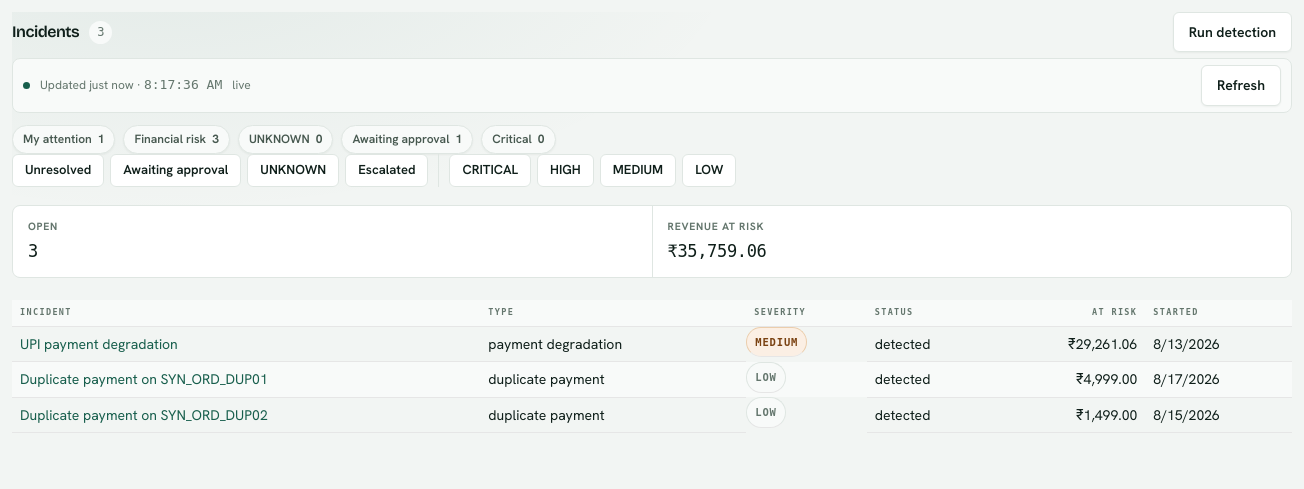
Test: filtering and saved views › puts the filter in the URL so a filtered console is a link
Expected: the table named "Open incidents" is shown, top-left (12, 300), bottom-right (1292, 433)
Step 1. Click the button "UNKNOWN" → [293, 170], box top-left (247, 154), bottom-right (339, 187)
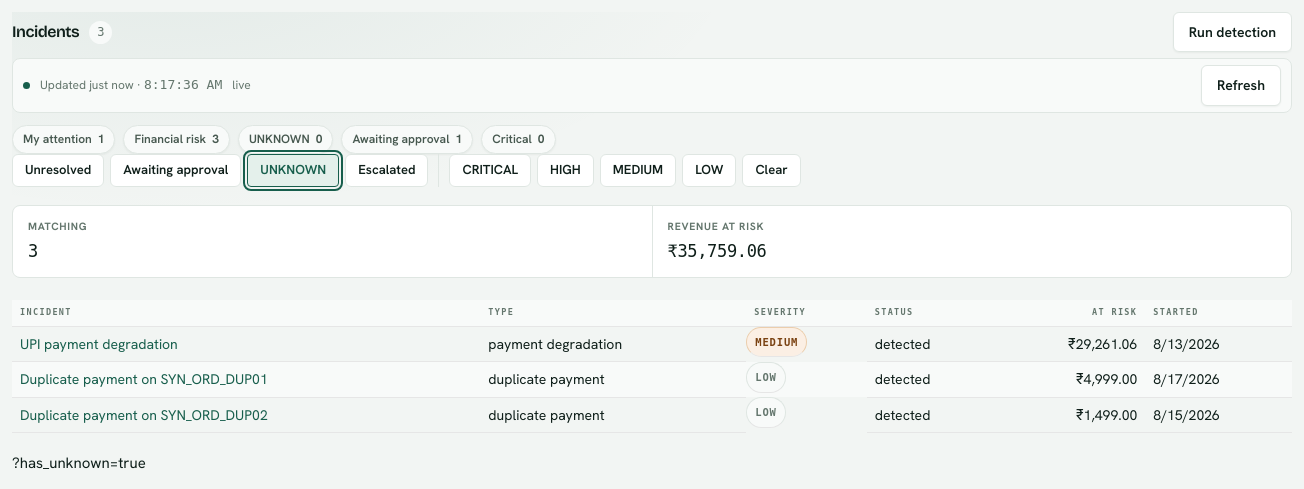
Result: the text with test id "location" shows "has_unknown=true" at top-left (12, 453), bottom-right (146, 473)
